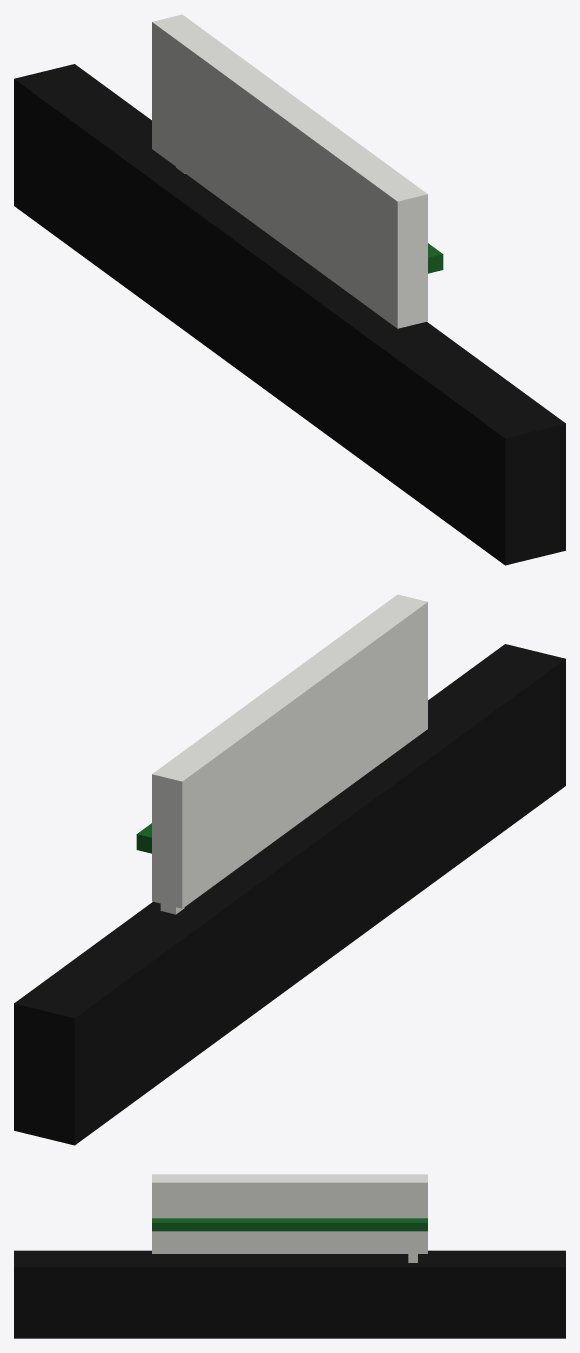
The model's file is electric_crossover_front_bumper.glb.
3 views of the same model, one above another, from view 1: azimuth 30°, elevation 25°; view 2: azimuth 150°, elevation 25°; view 3: azimuth 270°, elevation 25° (orthographic). The views are drawn at different scales.
Parts seen in each view (by area): view 1: body:compound; view 2: body:compound; view 3: body:compound.
Part boxes in pixels (x1,y1,x2,y2): body:compound: (14, 14, 565, 565); body:compound: (14, 594, 565, 1145); body:compound: (14, 1174, 565, 1338).
Bounding box in the file's own units: 0.125 × 0.5312 × 1.75.
